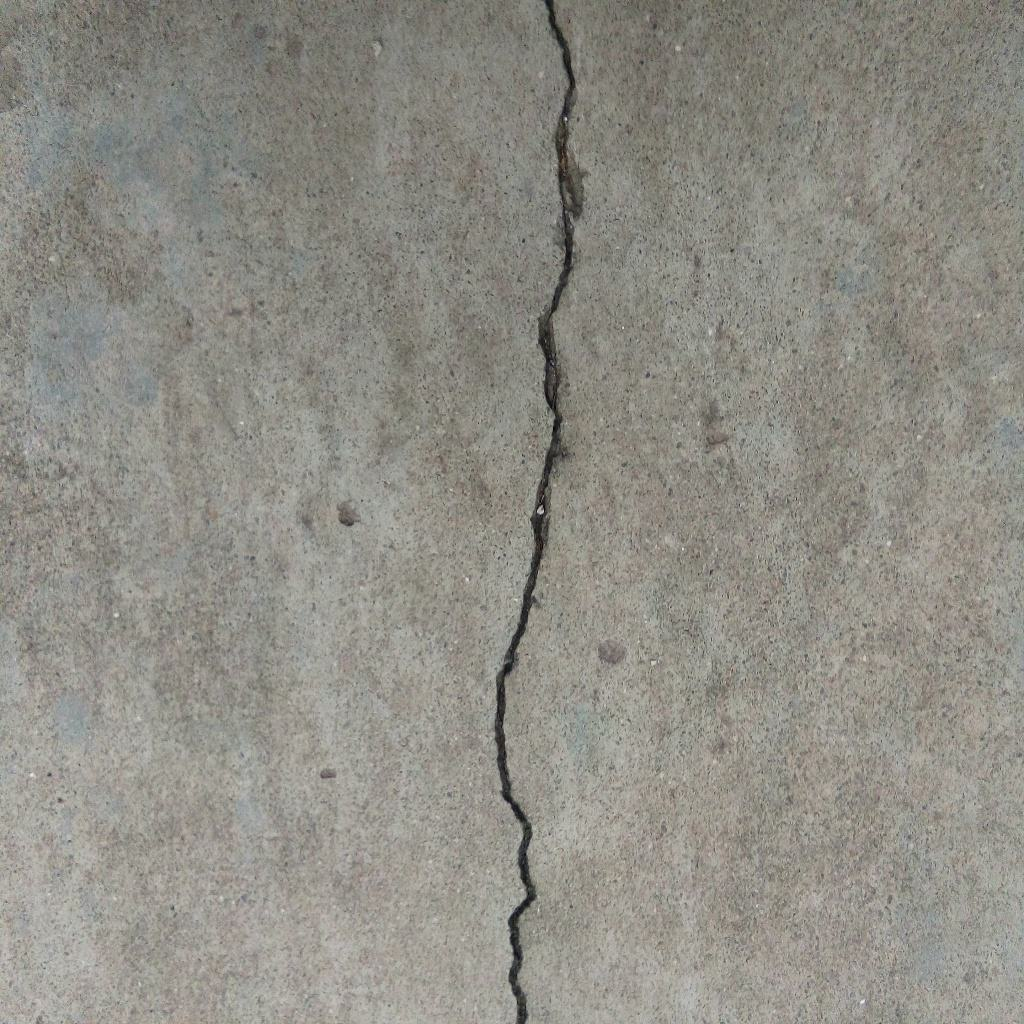Crack: (494, 1, 585, 1024)
